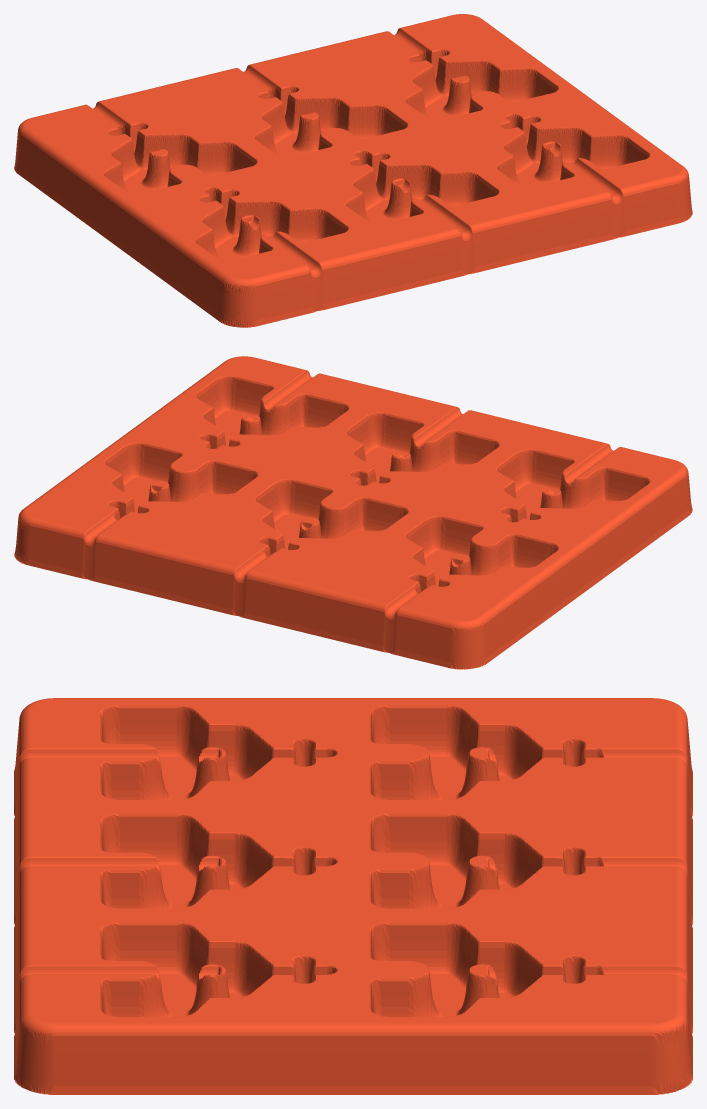
File: mold.glb
The picture shows the model from 3 angles, top to bottom: view 1: azimuth 30°, elevation 25°; view 2: azimuth 150°, elevation 25°; view 3: azimuth 270°, elevation 25°; orthographic projection. The views are drawn at different scales.
Parts seen in each view (by area): view 1: geometry_0; view 2: geometry_0; view 3: geometry_0.
Part boxes in pixels (bbox=[...]): geometry_0: bbox=[14, 14, 692, 327]; geometry_0: bbox=[14, 356, 692, 669]; geometry_0: bbox=[14, 698, 692, 1094].
Bounding box in the file's own units: 0.1741 × 0.0155 × 0.1477.
